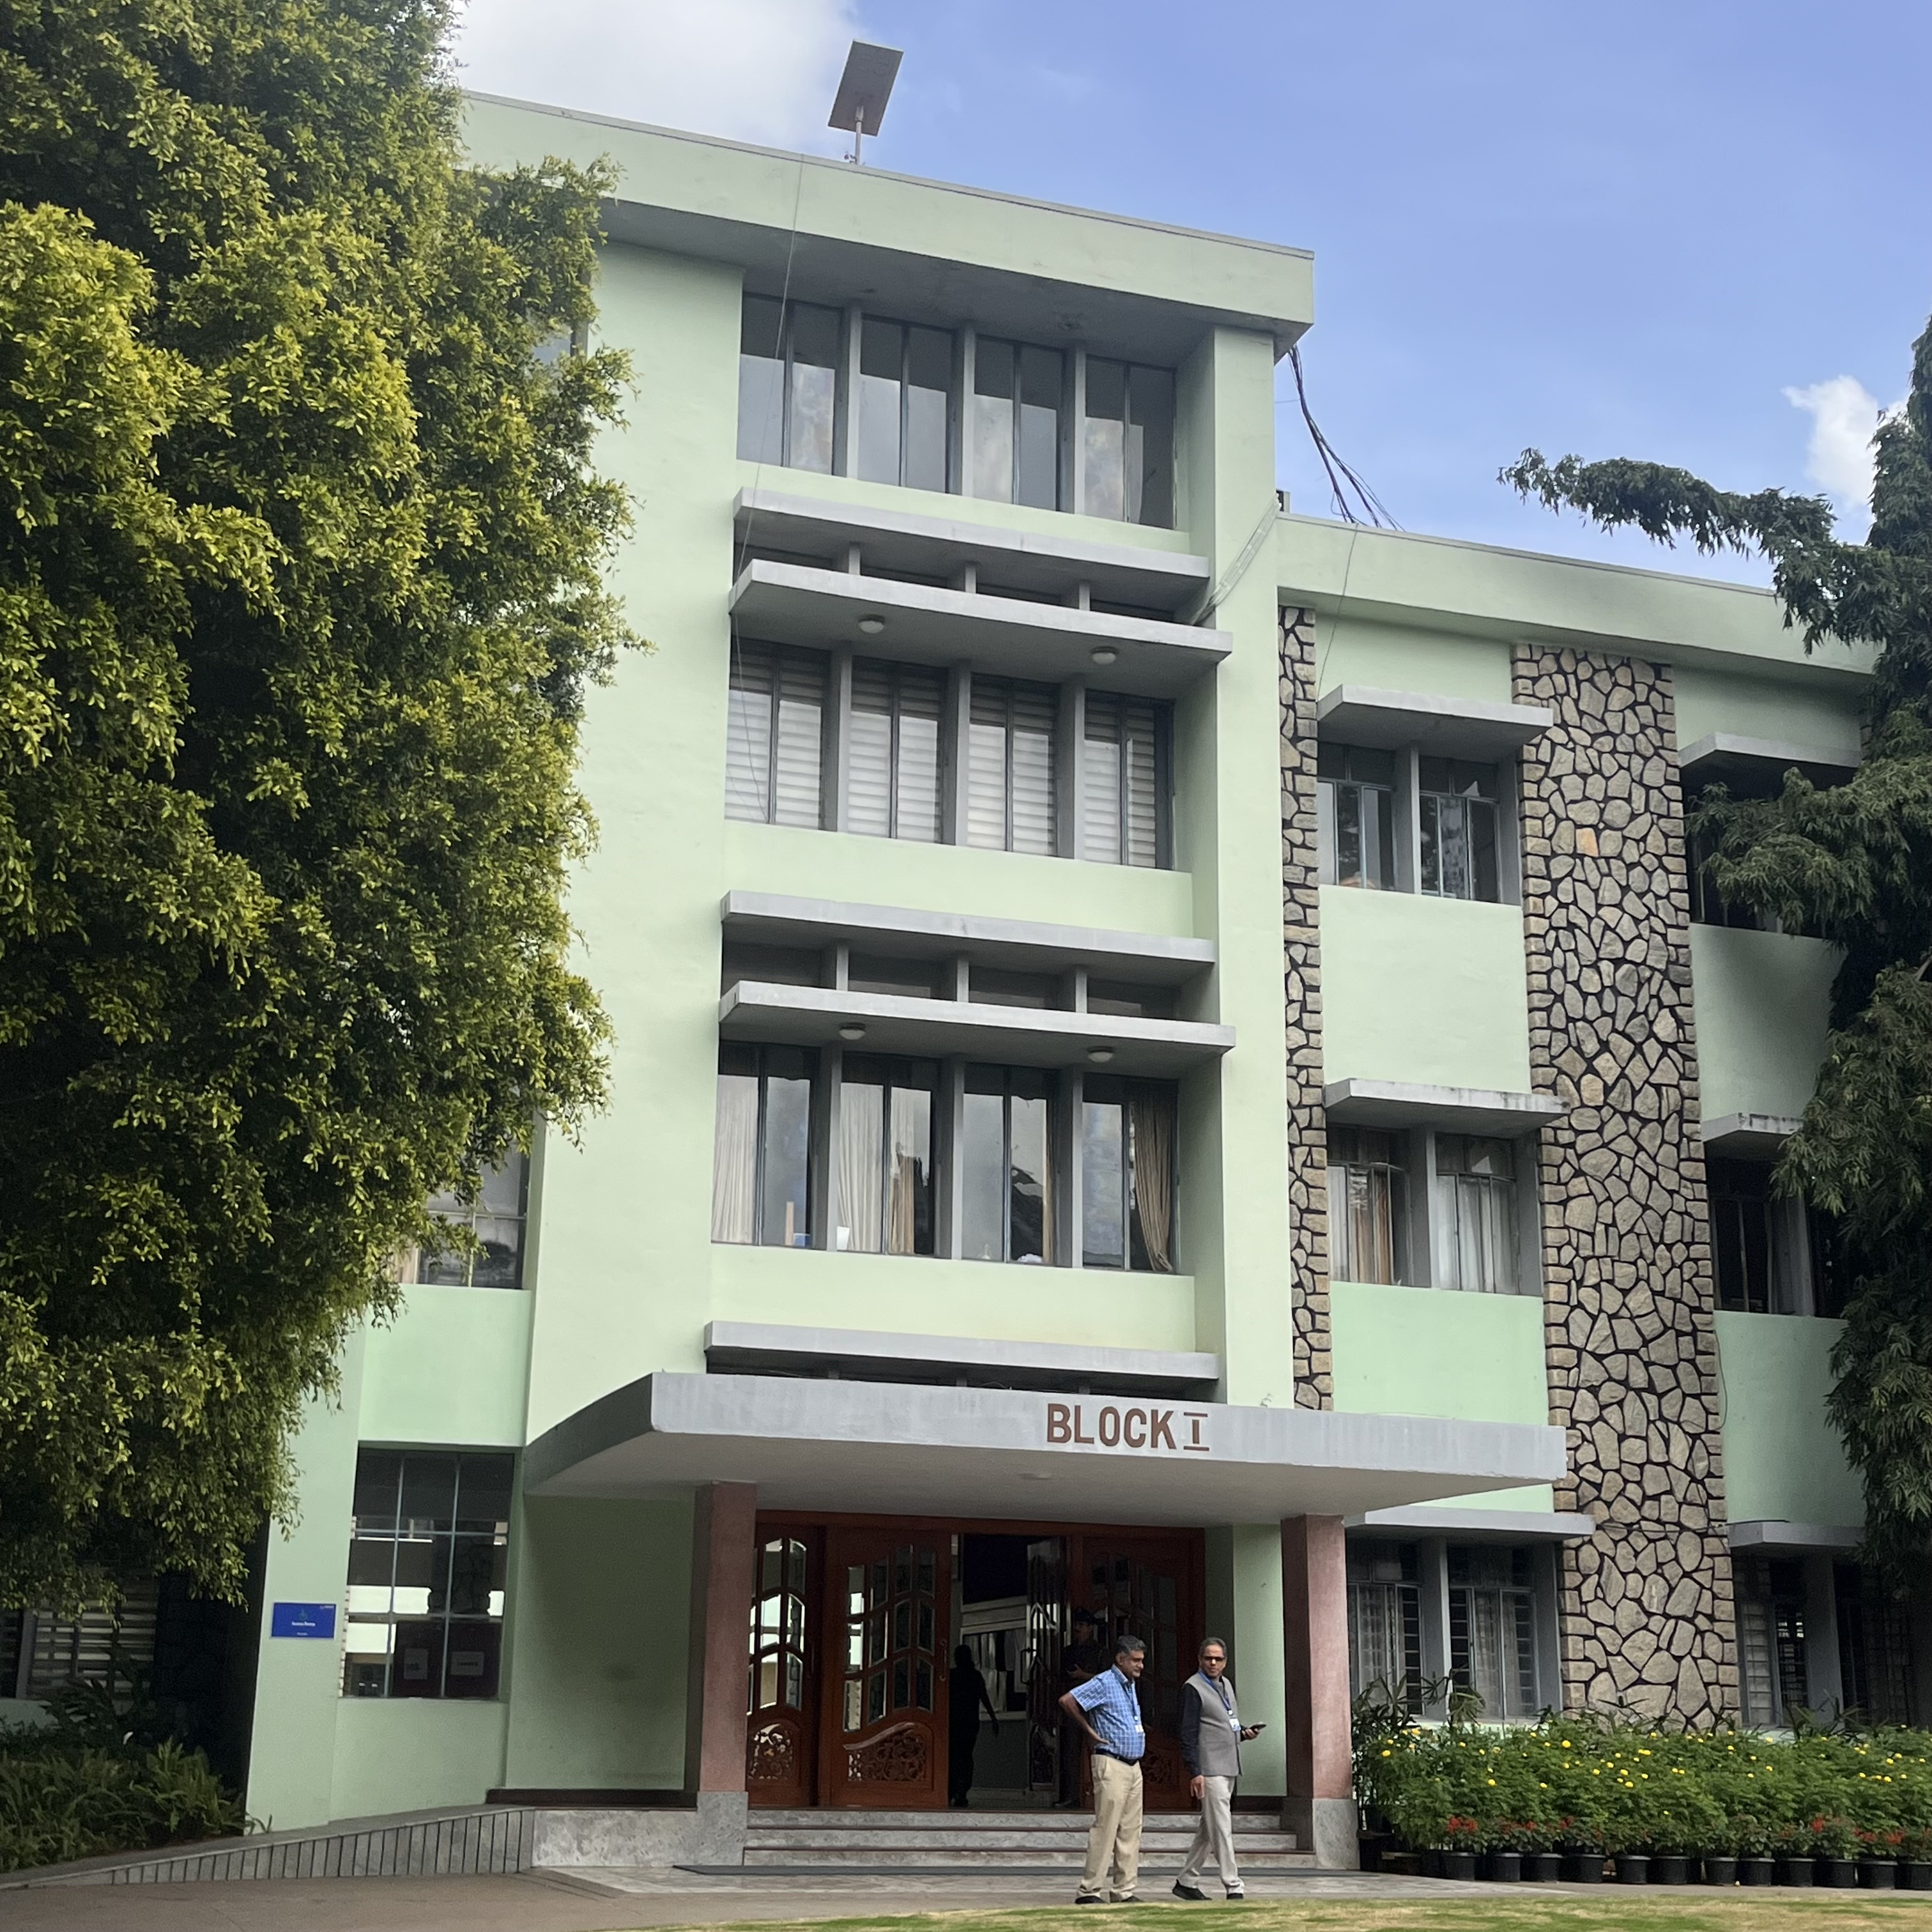Block 1: (603, 34, 1831, 1654)
